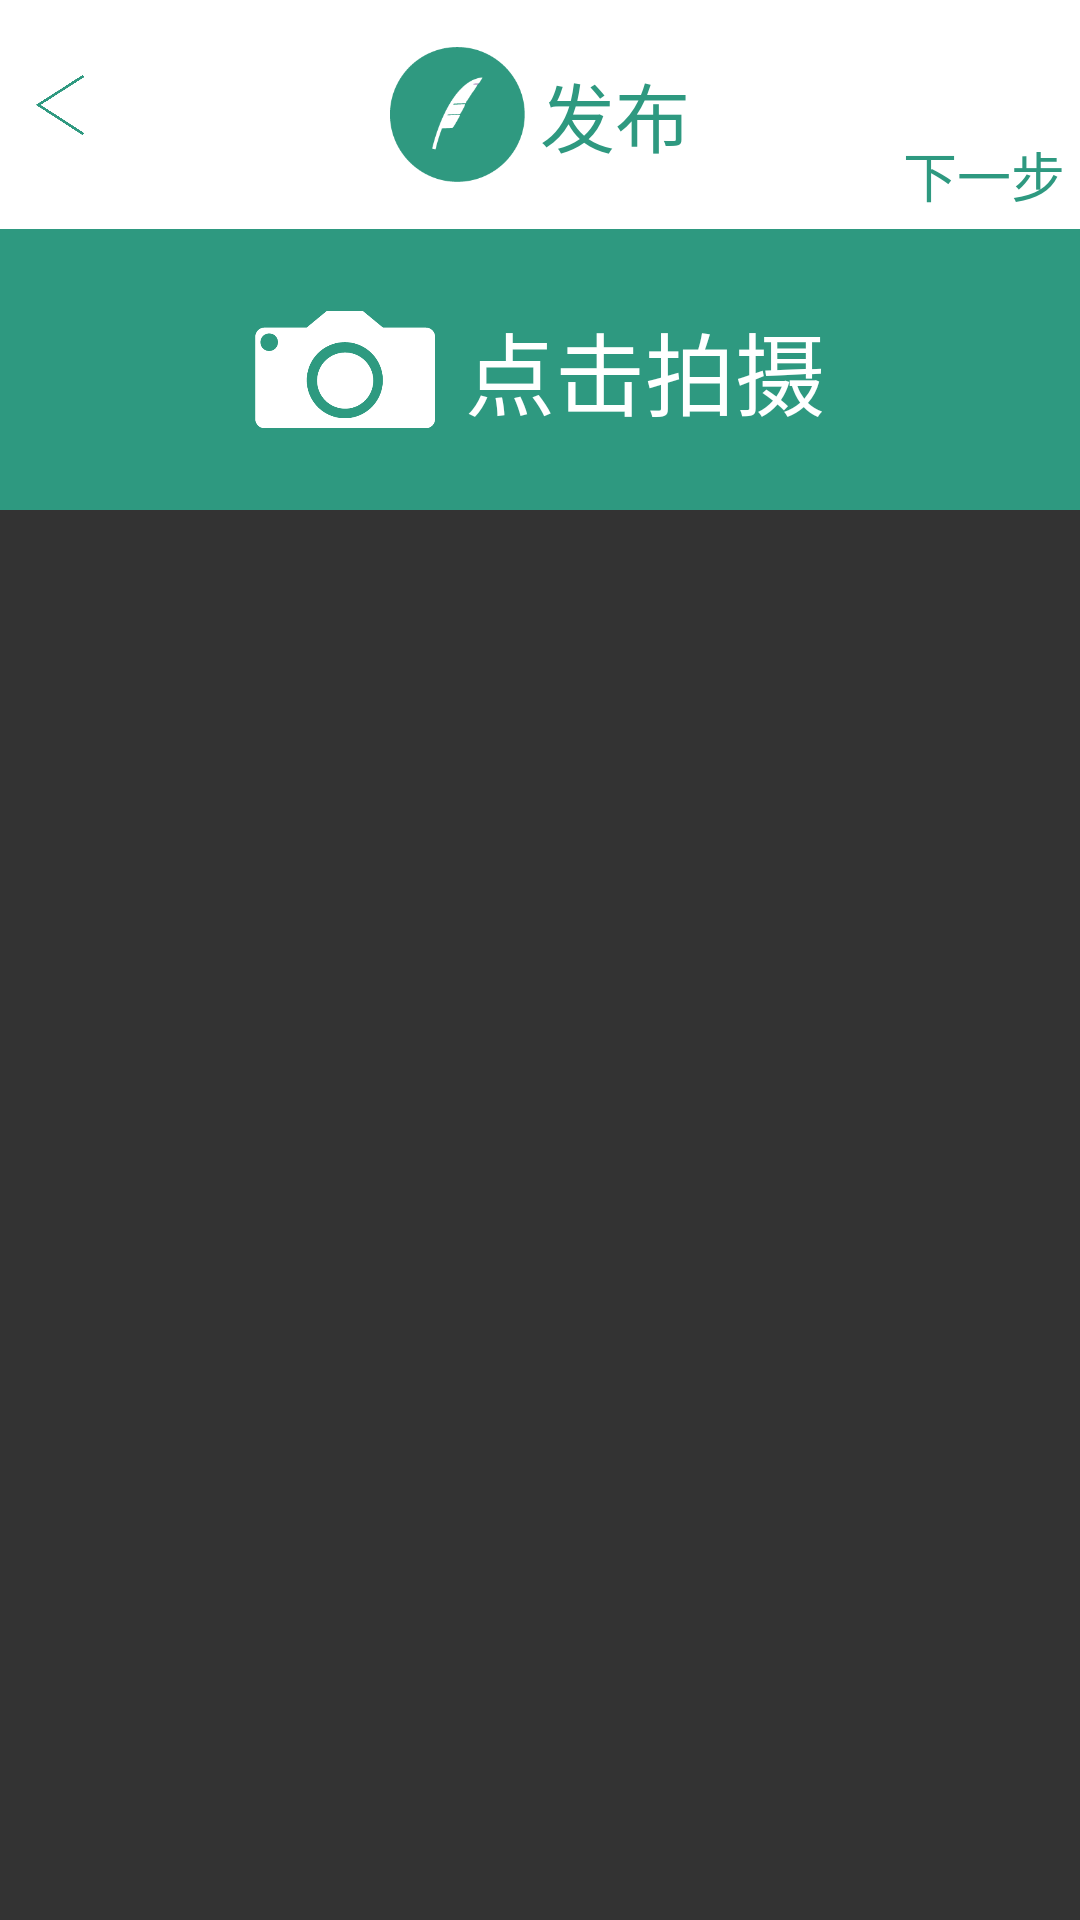

Screen size 1080 x 1920. Icon name, then its center in pixels as (x=x, y=y):
release back: (x=60, y=105)
release camera: (x=345, y=369)
